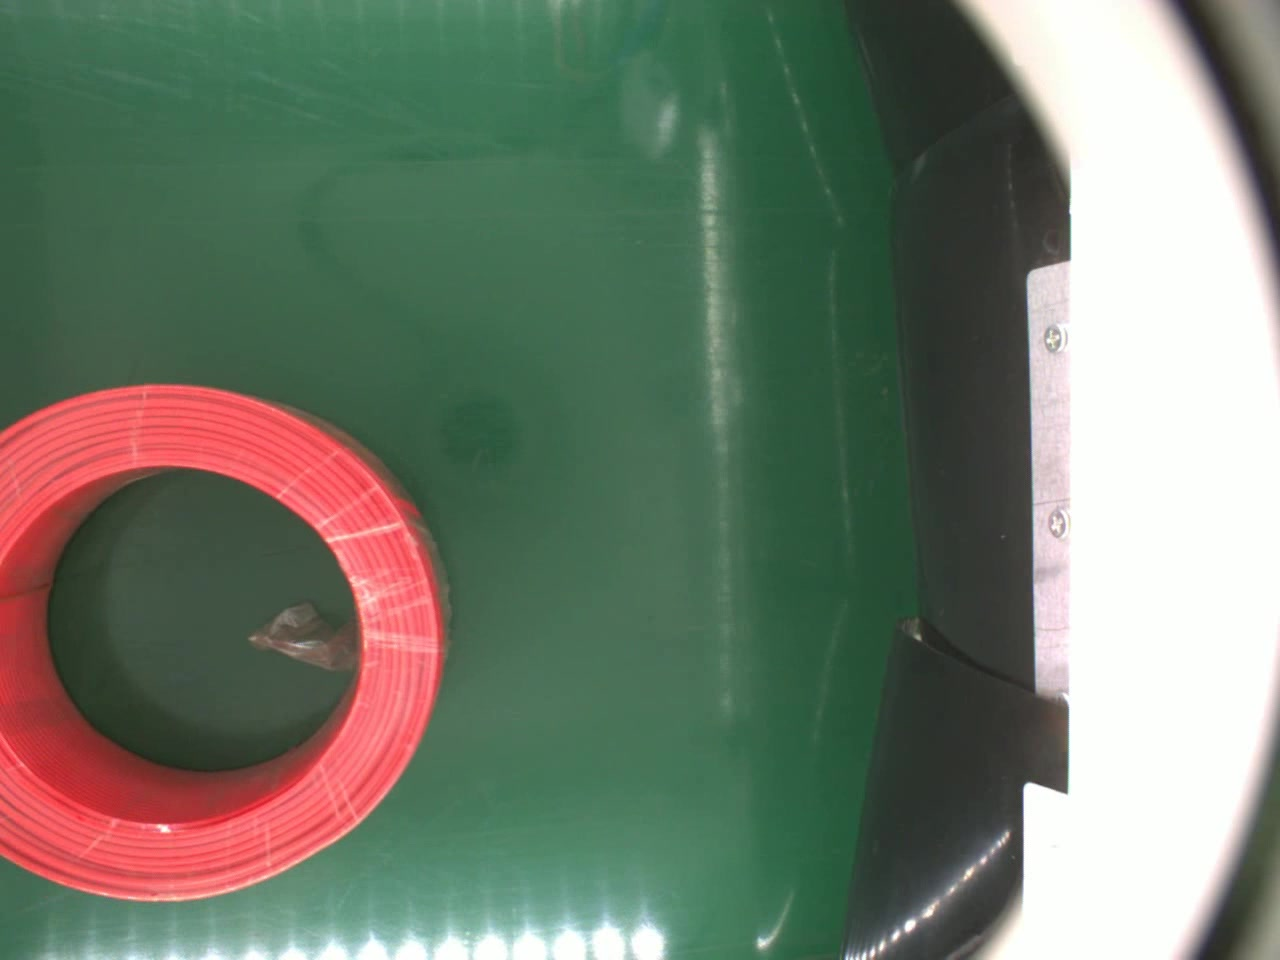red: (0, 378, 449, 904)
